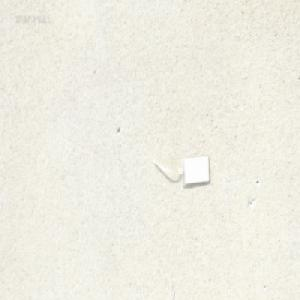LuggageTag: (152, 153, 210, 187)
